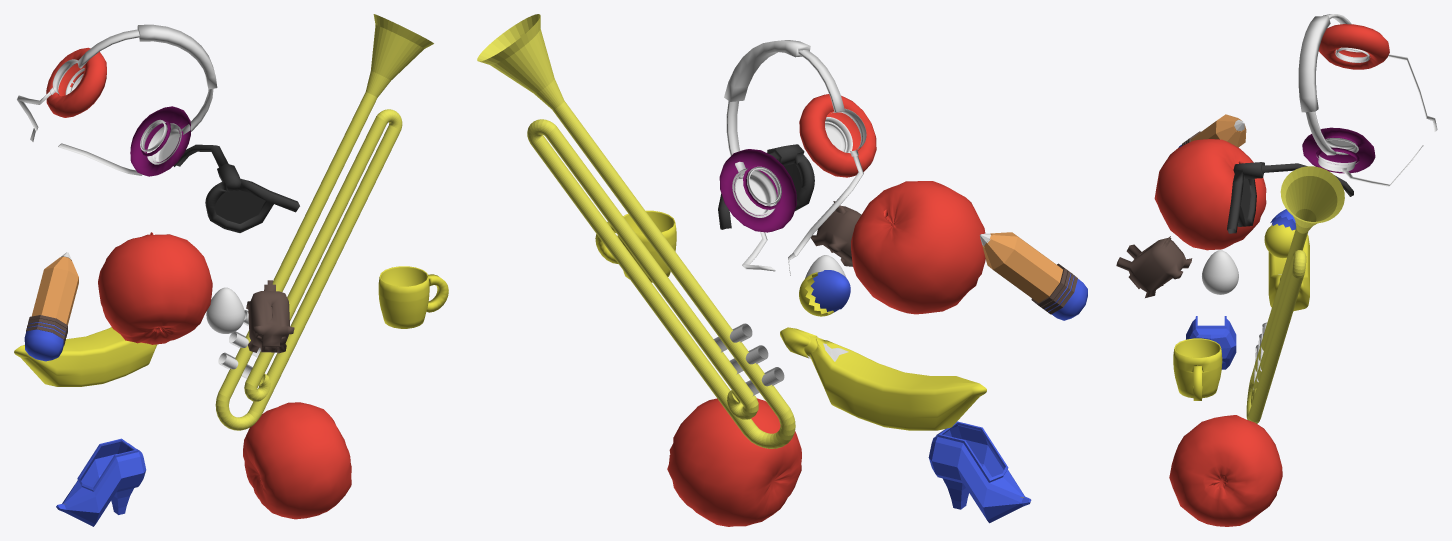
The model's file is Diffrent3dModel.glb.
The picture shows the model from 3 angles, left to right: view 1: azimuth 30°, elevation 25°; view 2: azimuth 150°, elevation 25°; view 3: azimuth 270°, elevation 25°; orthographic projection. The views are drawn at different scales.
Parts seen in each view (by area): view 1: Circle.007, Sphere.001, Sphere, Cube.005, Cube, Cube.002, Mug, Circle.004, Cube.003, Circle.002, Circle, Body (+5 smaller); view 2: Circle.007, Sphere.001, Sphere, Cube.005, Cube, Circle.004, Circle, Body, Circle.002, Cube.002, Circle.001, Cube.003 (+6 smaller); view 3: Sphere, Sphere.001, Circle.007, Mug, Cube.003, Circle.002, Circle.004, Cube.002, Circle, Sphere.002, Cube, Cube.005 (+3 smaller).
Part boxes in pixels (x1,y1,x2,y2): Circle.007: (215,14,433,430); Sphere.001: (98,232,212,344); Sphere: (243,402,351,519); Cube.005: (14,327,157,386); Cube: (56,438,146,526); Cube.002: (174,144,299,232); Mug: (378,266,448,328); Circle.004: (46,47,106,117); Cube.003: (246,280,294,353); Circle.002: (77,24,217,134); Circle: (130,106,190,176); Body: (31,256,78,324); Circle.007: (477,14,795,448); Sphere.001: (851,181,985,314); Sphere: (667,398,801,526); Cube.005: (780,327,986,430); Cube: (928,421,1031,523); Circle.004: (799,94,876,177); Circle: (719,149,796,232); Body: (982,232,1062,302); Circle.002: (724,40,844,178); Cube.002: (718,144,814,229); Circle.001: (732,168,776,271); Cube.003: (811,201,861,266); Sphere: (1169,415,1282,526); Sphere.001: (1154,139,1266,250); Circle.007: (1246,166,1344,423); Mug: (1173,338,1222,400); Cube.003: (1116,236,1192,297); Circle.002: (1298,14,1351,155); Circle.004: (1318,24,1389,69); Cube.002: (1227,162,1353,233); Circle: (1302,127,1375,173); Sphere.002: (1202,250,1238,294); Cube: (1186,316,1236,369); Cube.005: (1268,234,1309,311).
Bounding box in the file's own units: 27.51 × 27 × 17.25.
